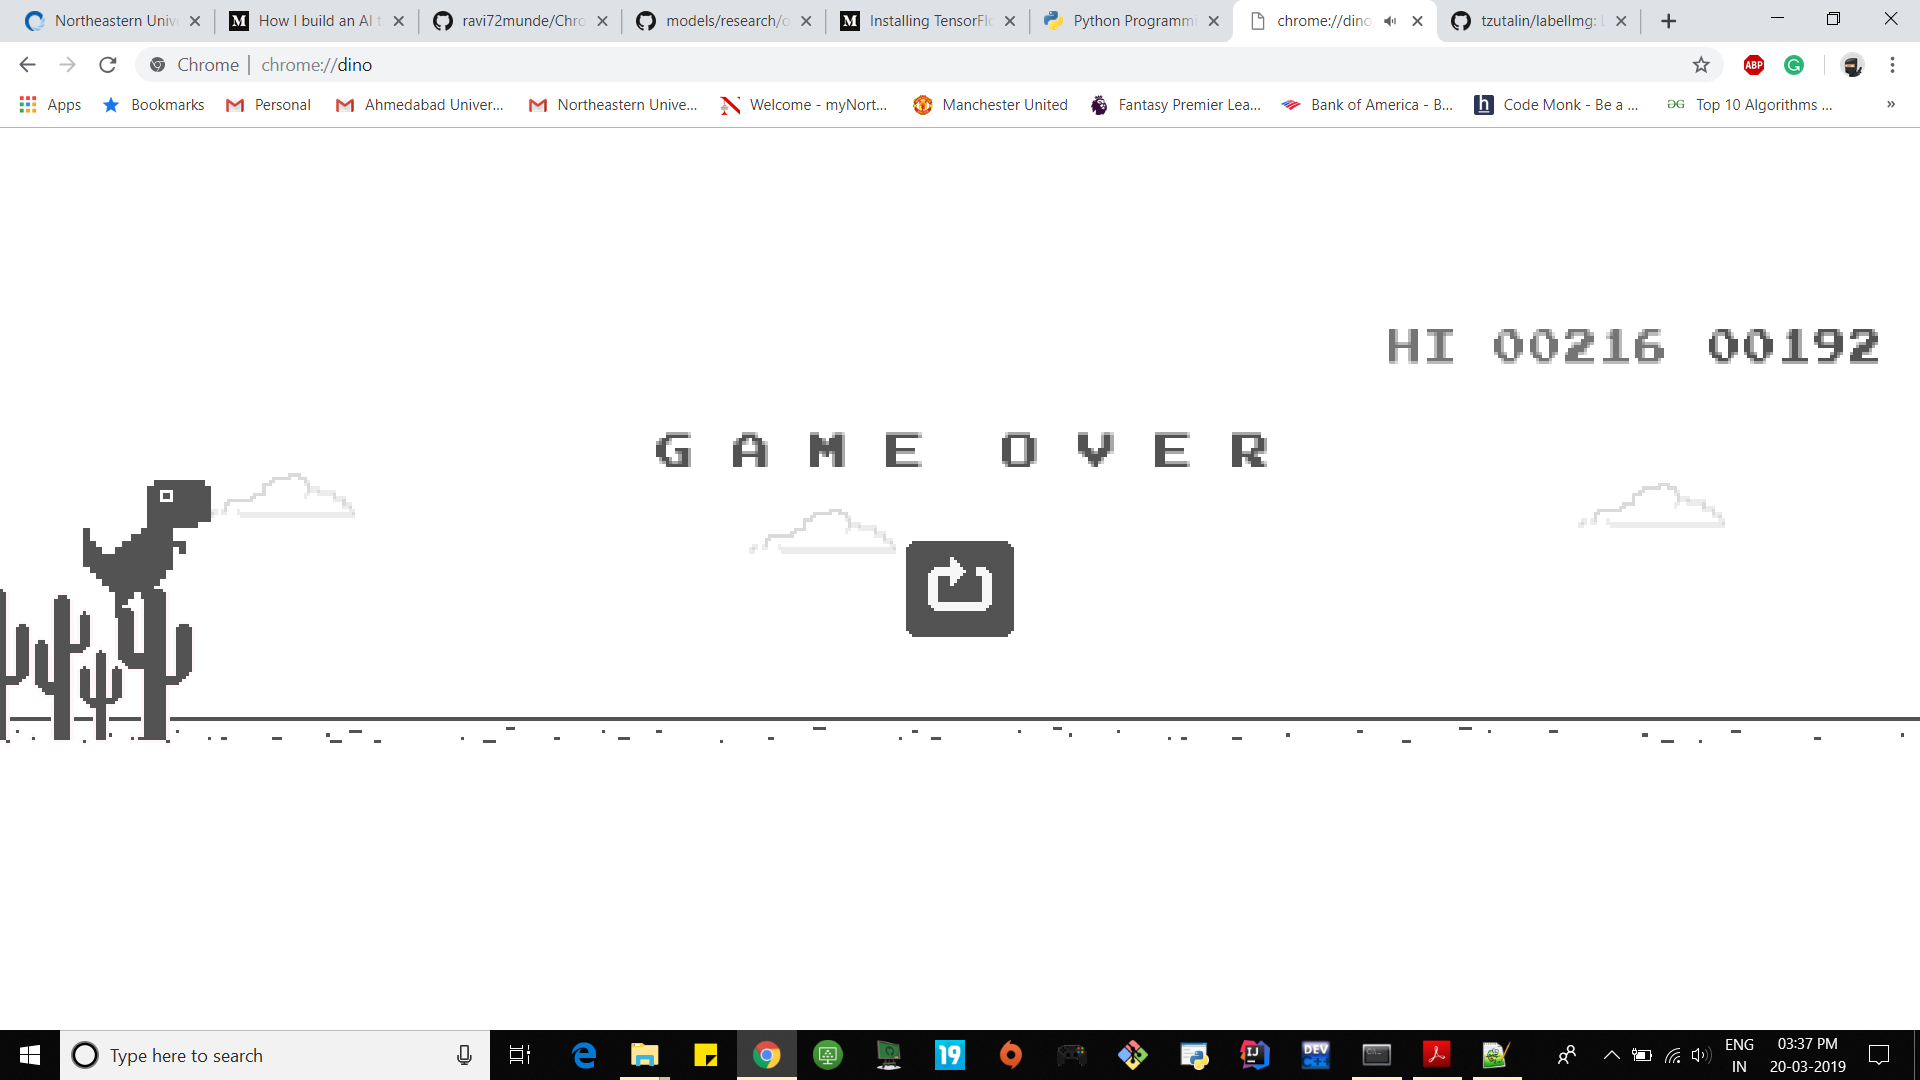cactus-4: (1, 589, 194, 738)
dino: (80, 479, 214, 611)
gameover: (906, 542, 1015, 638)
